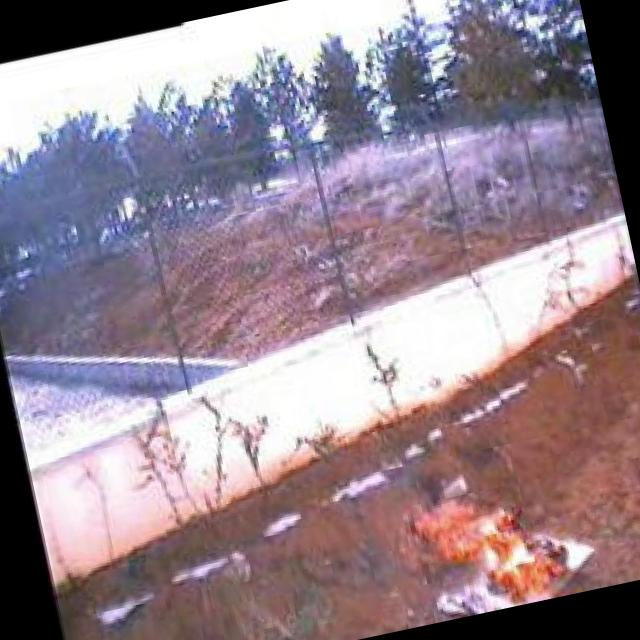Fire: (402, 470, 578, 624)
